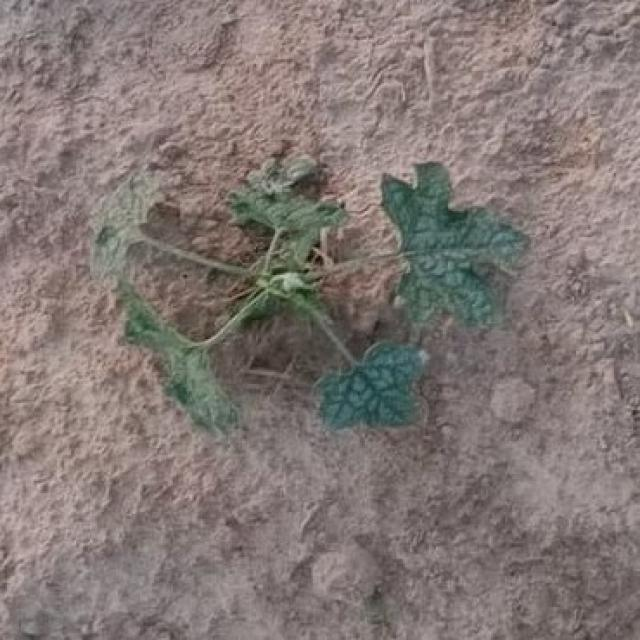plant: (94, 156, 528, 433)
